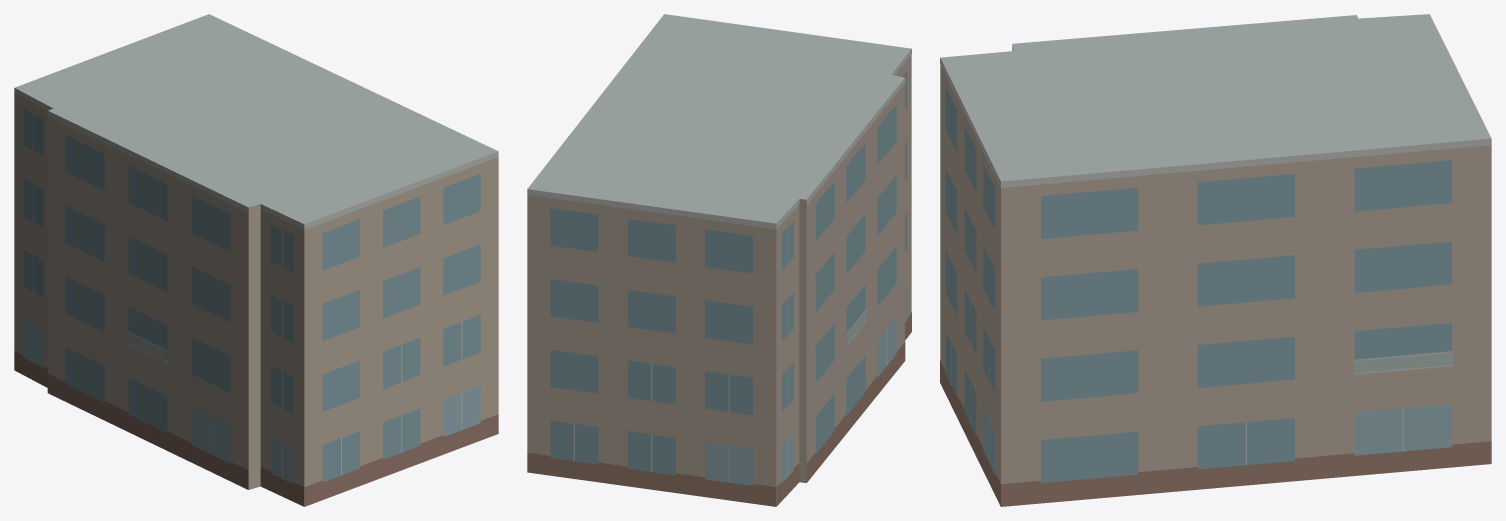
Rendered from survey-upis-32698485.glb.
The picture shows the model from 3 angles, left to right: view 1: azimuth 30°, elevation 25°; view 2: azimuth 150°, elevation 25°; view 3: azimuth 270°, elevation 25°; orthographic projection. The views are drawn at different scales.
Parts seen in each view (by area): view 1: survey-upis-32698485.tmp; view 2: survey-upis-32698485.tmp; view 3: survey-upis-32698485.tmp.
Part boxes in pixels (x1,y1,x2,y2): survey-upis-32698485.tmp: (14, 14, 498, 506); survey-upis-32698485.tmp: (527, 14, 911, 506); survey-upis-32698485.tmp: (940, 14, 1491, 506).
Bounding box in the file's own units: 13.48 × 12.2 × 18.75.
